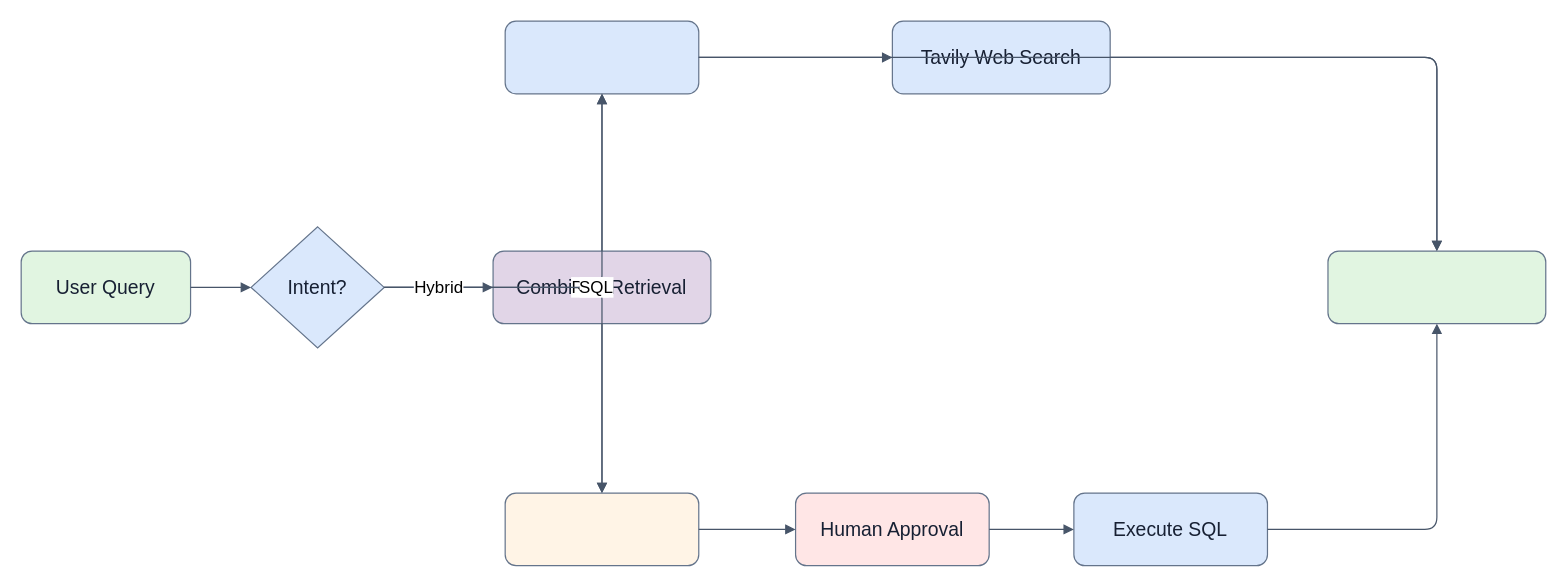
This 1567x587 diagram has some shape labels left out. The centre of each missing label's shape, as x and y in pixels:
Generate Answer: pixel 1436 287
Text2SQL: pixel 601 529
Vector Search: pixel 601 57
